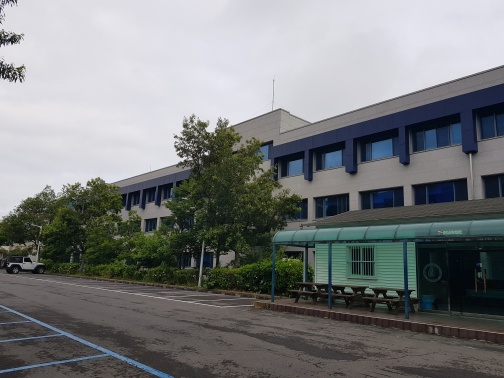College of Social Sciences: (98, 100, 500, 336), (298, 102, 482, 187)
